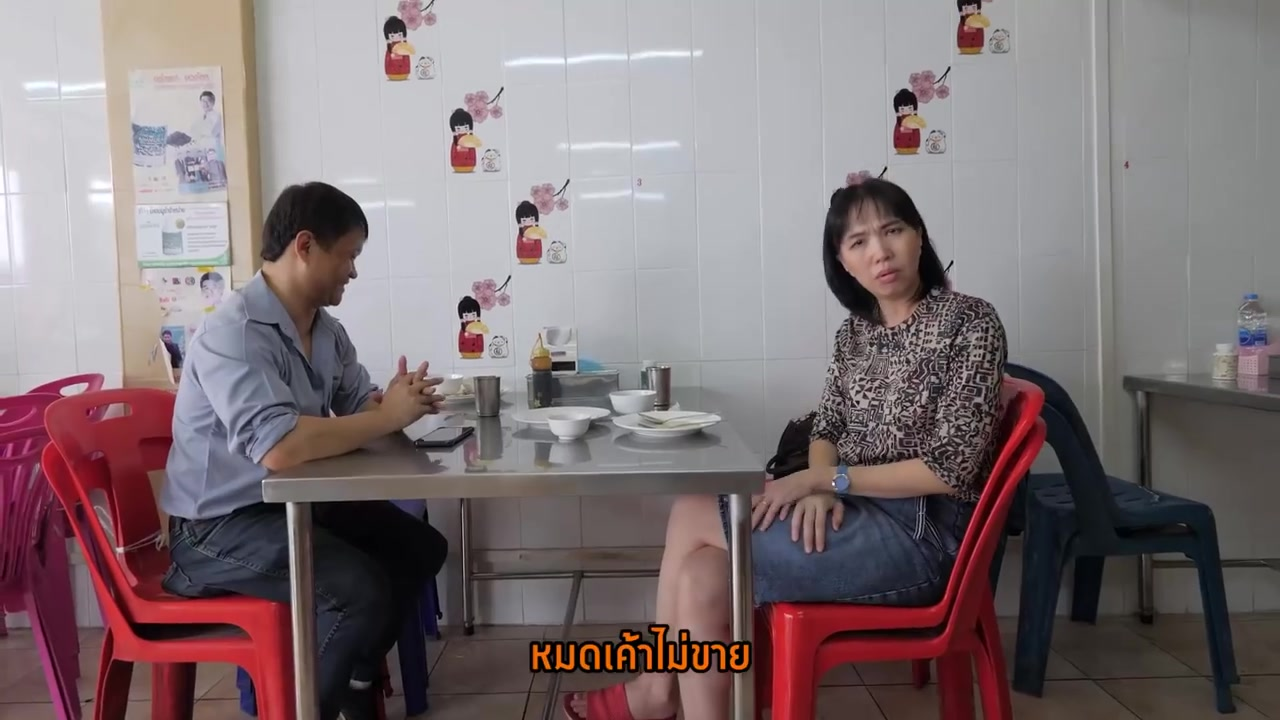text-label: (529, 624, 752, 675)
